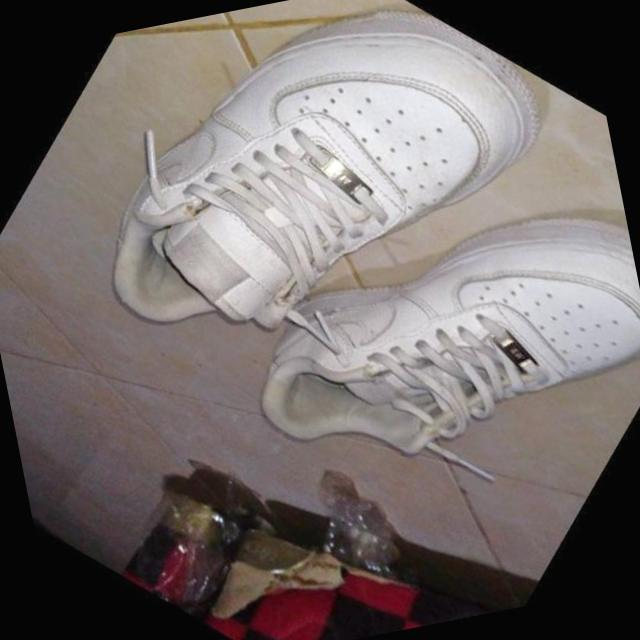nike_fake_airforce: (30, 0, 625, 493), (155, 42, 640, 638)
